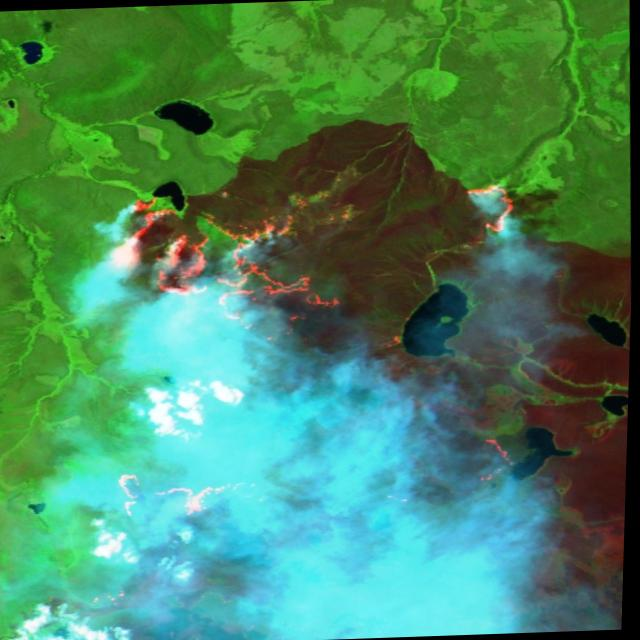fire: (81, 175, 533, 526)
